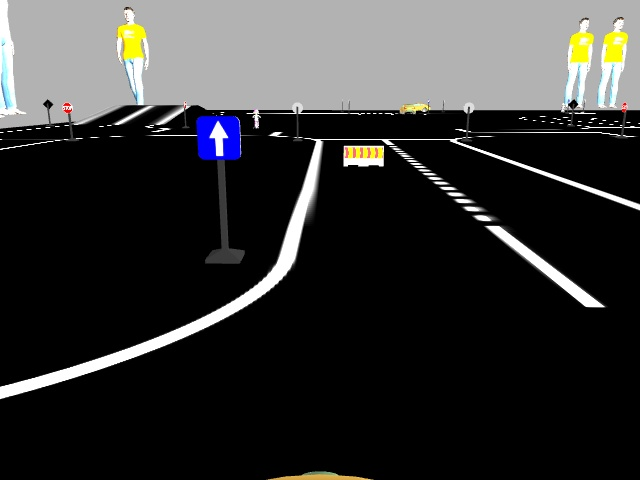ClosedRoadStand: (343, 146, 382, 165)
OneWay: (199, 117, 239, 158)
